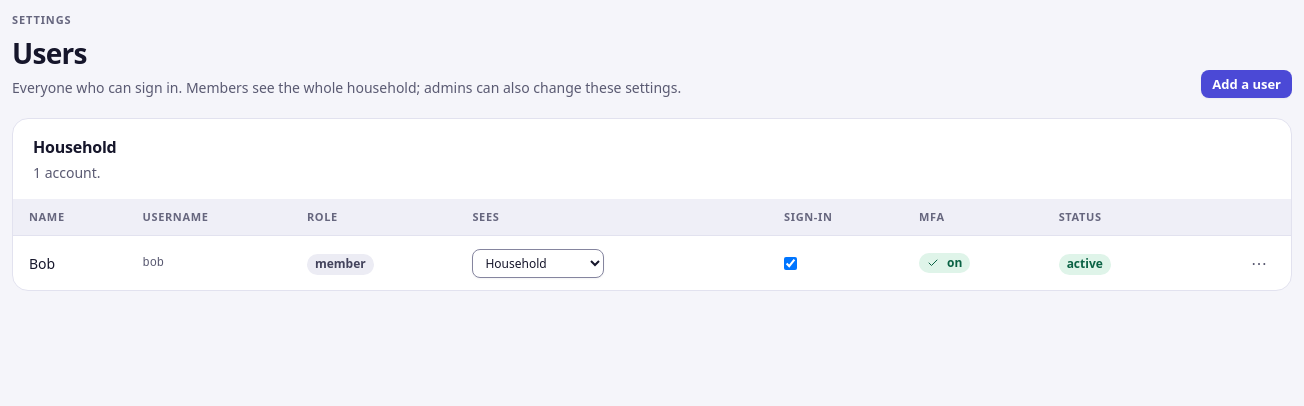
Test: v1.12.1: Deactivate and Reset MFA ask first (item AU / UX-6, ruling R5) › Reset MFA opens its own confirm row, worded for what it actually does
Click the button "⋯" at (1259, 263), box [1243,247,1275,279]
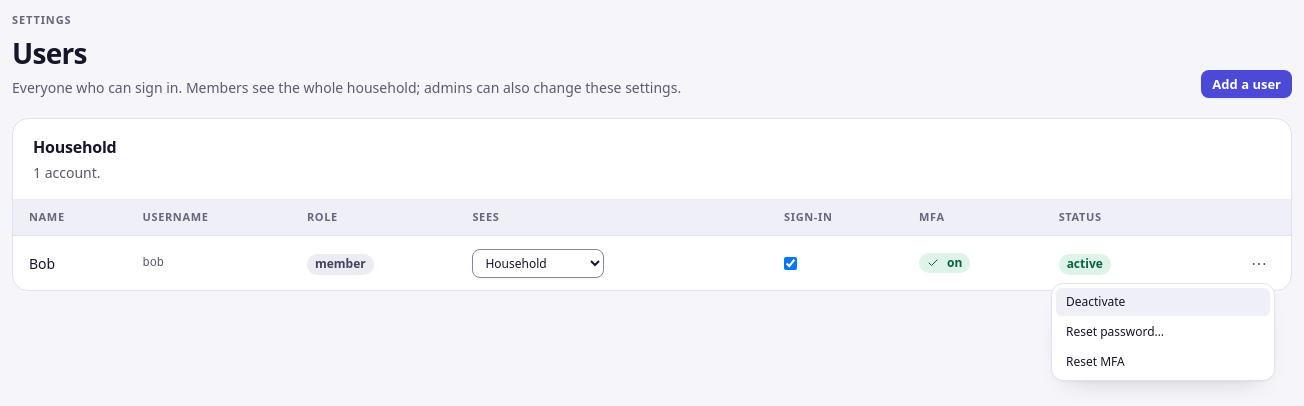
Click the menu item "Reset MFA" at (1163, 362), box [1056,348,1270,376]
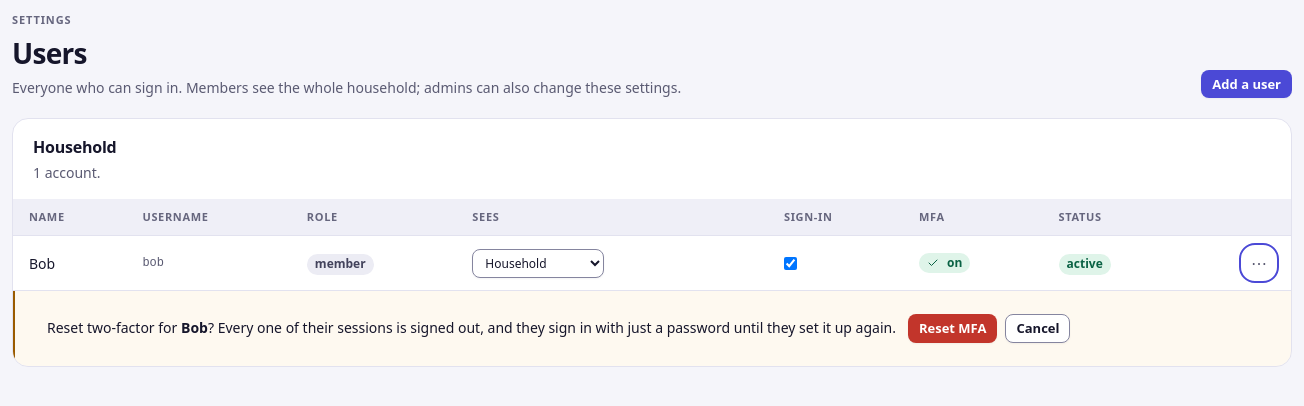
Expected: the text "Every one of their sessions is signed out" shows "Bob", [181,318,208,338]
